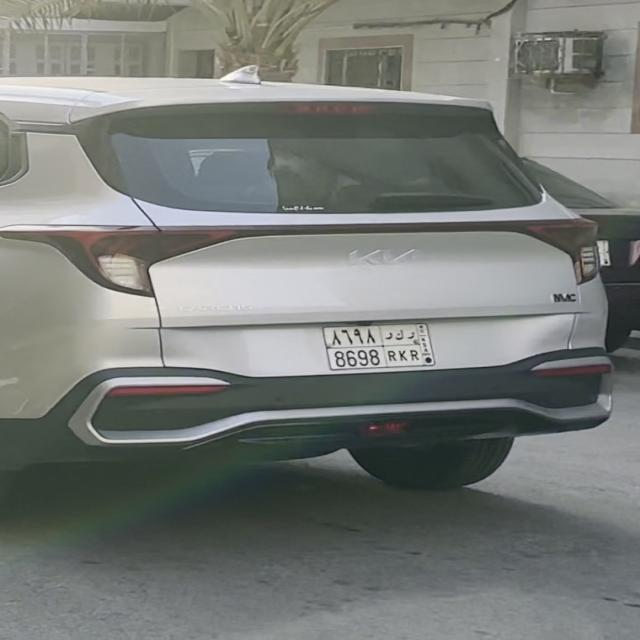Car-plate: (310, 313, 452, 376)
